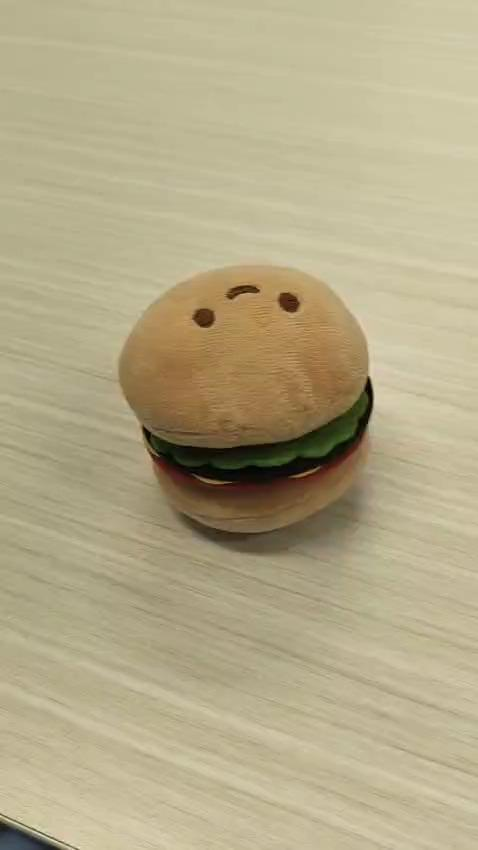hamburger: (116, 262, 374, 535)
